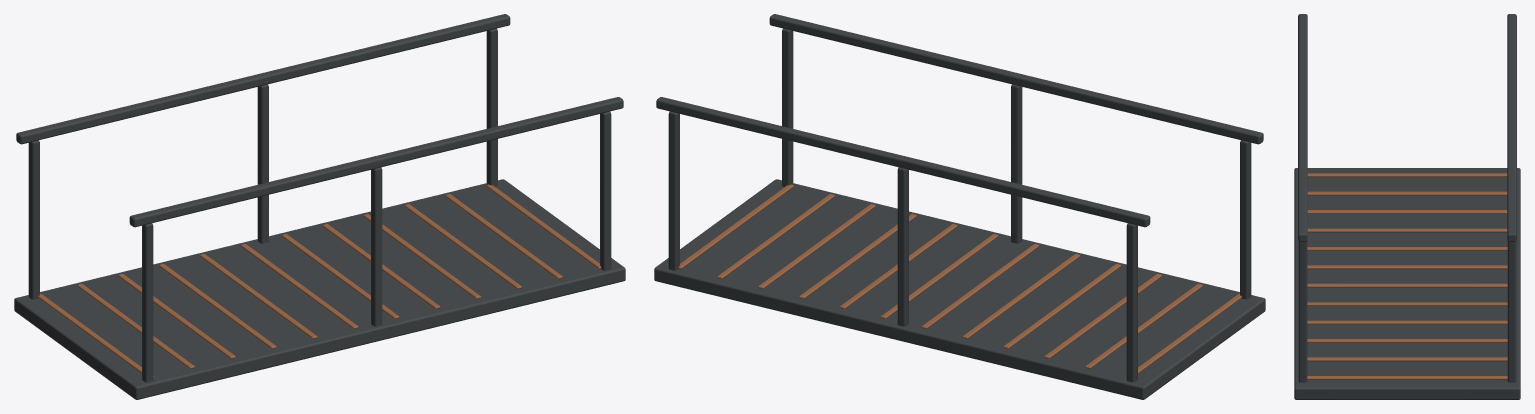
File: undercity-sewers-and-thieves-den-iron-footbridge-84900ff4__25046.glb
3 views of the same model, side by side, from view 1: azimuth 30°, elevation 25°; view 2: azimuth 150°, elevation 25°; view 3: azimuth 270°, elevation 25° (orthographic). The views are drawn at different scales.
Visible parts, largest first — view 1: iron-footbridge; view 2: iron-footbridge; view 3: iron-footbridge.
Boxes of the visible parts, x1,y1,x2,y2 form: iron-footbridge: (14, 14, 625, 399); iron-footbridge: (654, 14, 1265, 399); iron-footbridge: (1294, 14, 1520, 399).
Bounding box in the file's own units: 3 × 1.06 × 1.3.
